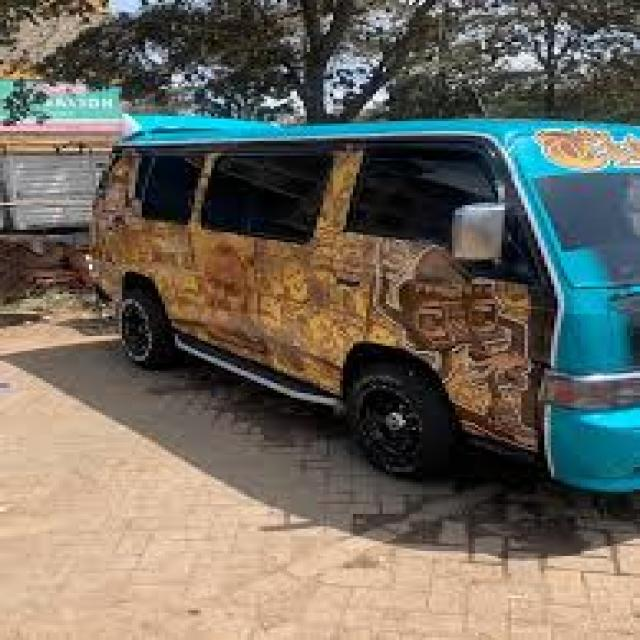matatu: (62, 79, 640, 506)
